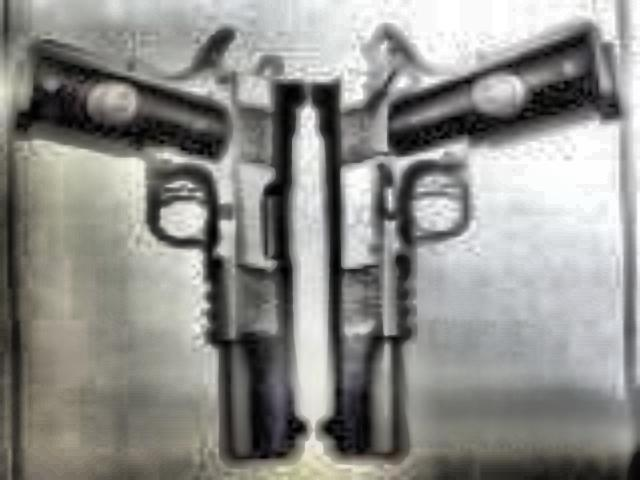pistol: (12, 0, 308, 456), (316, 8, 604, 456)
